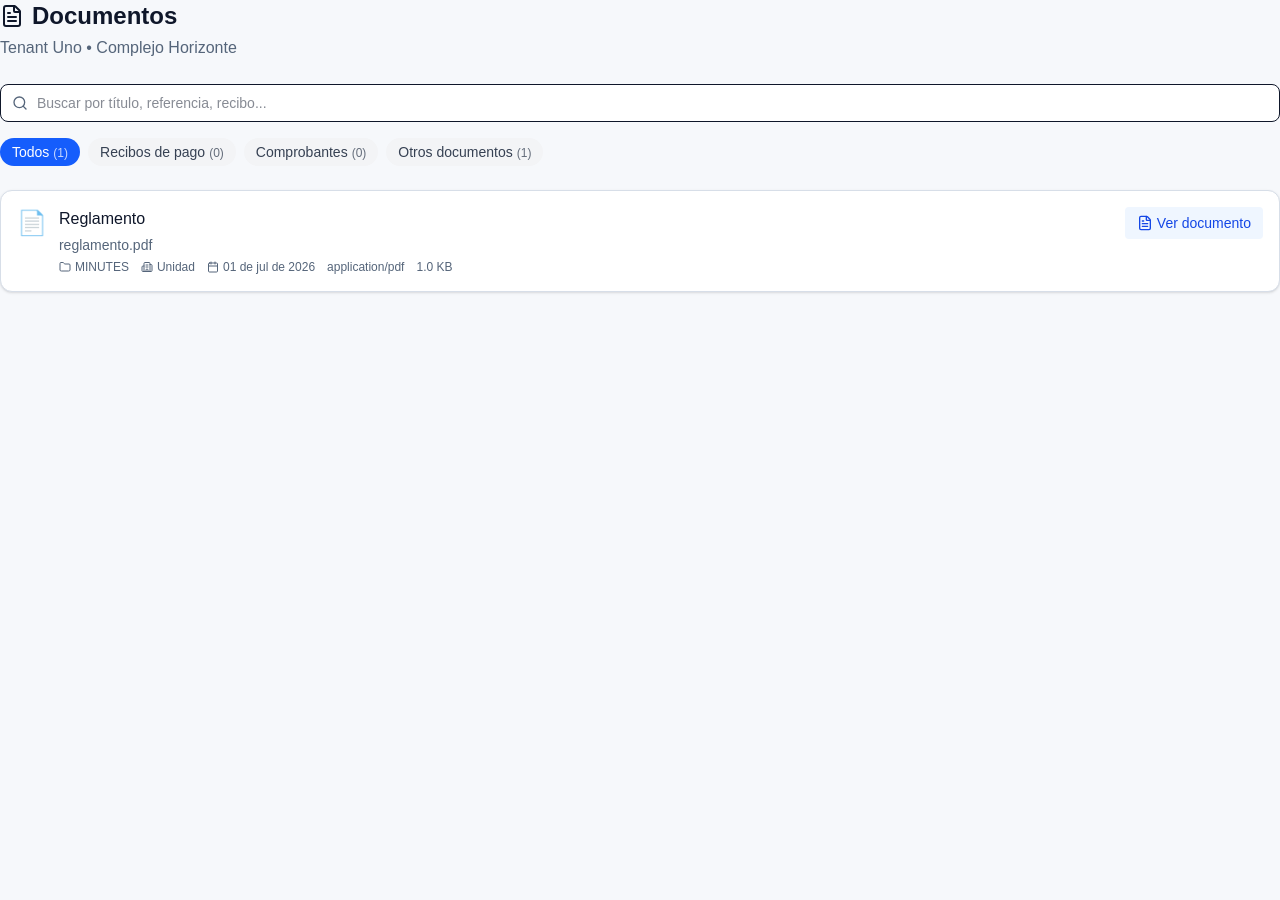
Scenario: ResidentDocumentsPage › closes modal when clicking close button
Click the button with aria-label "ver documento reglamento" at coordinates (1194, 223), box [1125,207,1263,239]
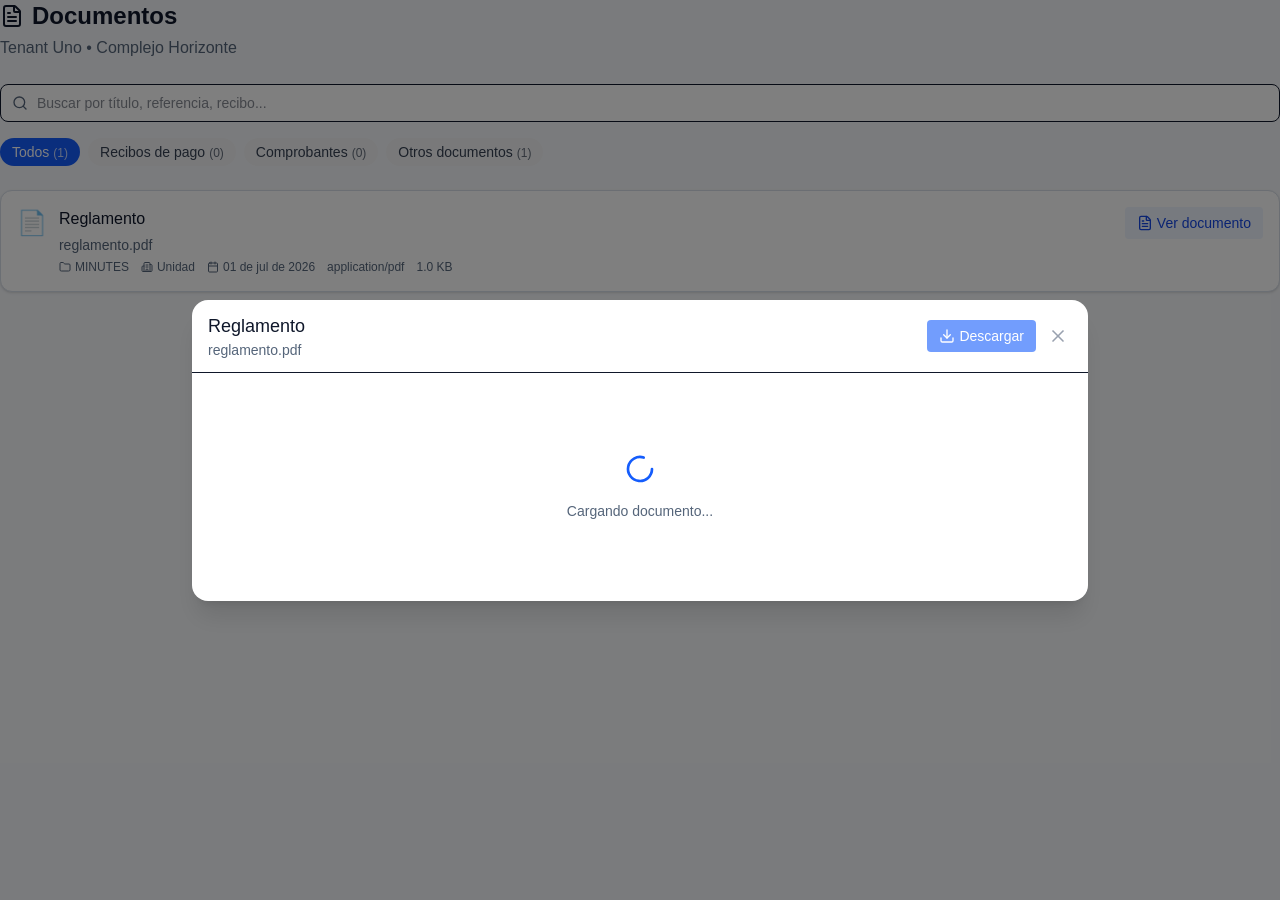
Expected: the dialog is shown
Click the button named "Cerrar" at coordinates (1058, 336), box [1044,322,1072,350]
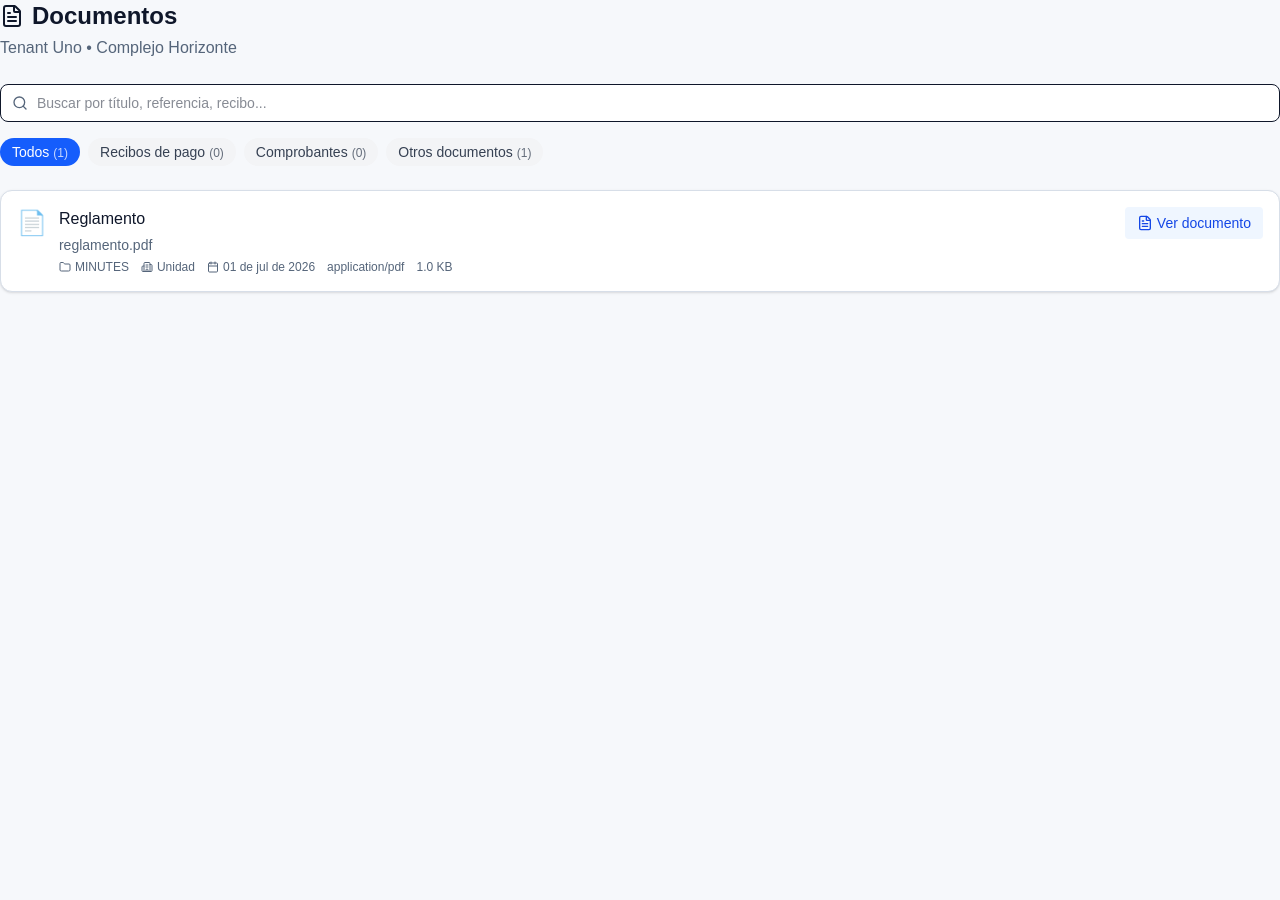
Expected: the dialog is gone
